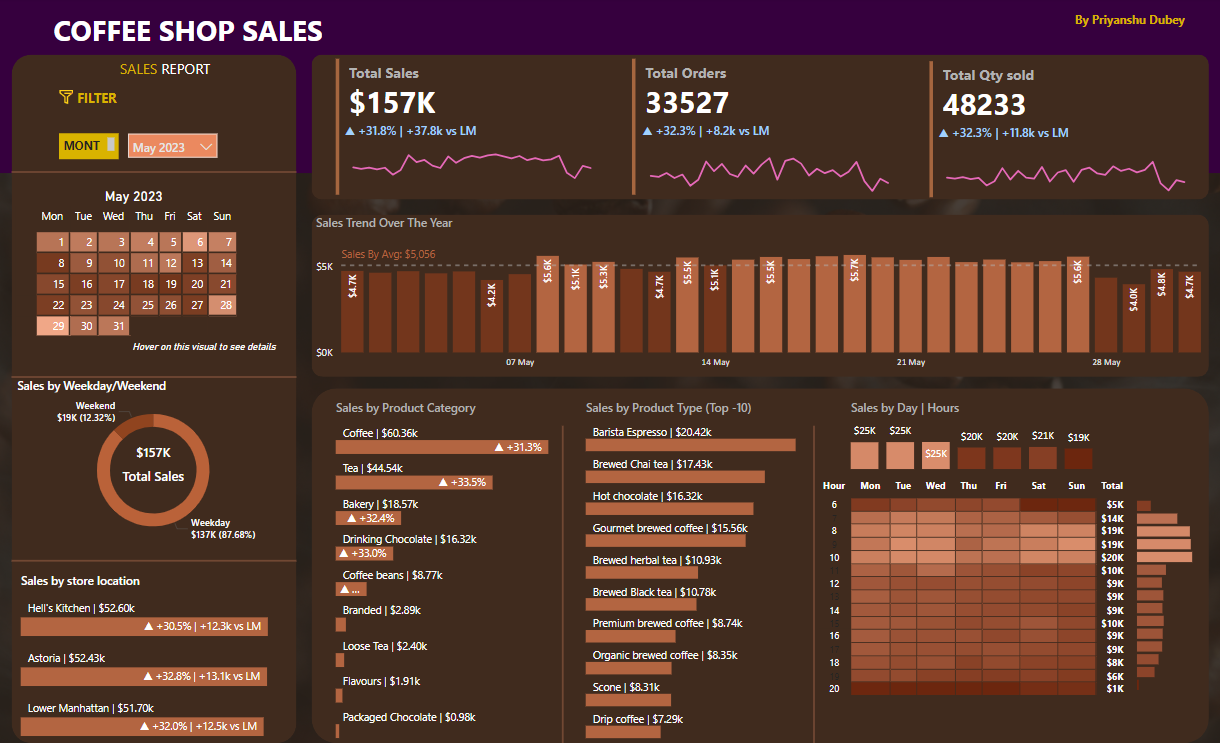

The dashboard page shown, as its layout file describes it:
{"tool":"powerbi","page":{"name":"Page 1","canvas":[1400,850],"ordinal":0},"visuals":[{"type":"shape","box":[0,1.4,1400.1,199.4],"z":0},{"type":"shape","box":[19.9,65.5,324.7,784.8],"z":1000},{"type":"shape","box":[361.8,65.5,1022.6,165.2],"z":2000},{"type":"textbox","box":[62.7,11.4,353.2,54.1],"z":3000},{"type":"slicer","fields":{"Values":["Date Table.Month Name"]},"box":[142.4,151,116.8,42.7],"z":4000},{"type":"group","id":"g1","title":"Group 1","box":[384.6,65.5,311.1,165.2],"z":5000},{"type":"cardVisual","fields":{"Data":["_Measures.Total Sale"]},"box":[384.6,65.5,300.5,165.2],"z":5000,"group":"g1"},{"type":"cardVisual","fields":{"Data":["_Measures.Total Order"]},"box":[722.1,65.5,300.5,165.2],"z":5000,"group":"g2"},{"type":"cardVisual","fields":{"Data":["_Measures.Total Qty sold"]},"box":[1060.5,68.1,300.5,165.2],"z":5000,"group":"g3"},{"type":"group","id":"g2","title":"Group 1","box":[722.1,65.5,311.9,165.2],"z":6000},{"type":"lineChart","fields":{"Category":["Date Table.Date Hierarchy.Date"],"Y":["_Measures.Total Sale"]},"box":[395.2,143.1,300.5,85.5],"z":6000,"group":"g1"},{"type":"lineChart","fields":{"Category":["Date Table.Date Hierarchy.Date"],"Y":["_Measures.Total Order"]},"box":[733.5,143.1,300.5,85.5],"z":6000,"group":"g2"},{"type":"lineChart","fields":{"Category":["Date Table.Date Hierarchy.Date"],"Y":["_Measures.Total Qty sold"]},"box":[1071.1,144.9,300.5,85.5],"z":6000,"group":"g3"},{"type":"group","id":"g3","title":"Group 1","box":[1060.5,68.1,311.2,165.2],"z":7000},{"type":"pivotTable","fields":{"Values":["Sum(Date Table.Day)"],"Columns":["Date Table.Day Name"],"Rows":["Date Table.Week Number"]},"box":[19.9,233.6,305,190],"z":8000},{"type":"card","fields":{"Values":["Min(Date Table.Month Name)"]},"box":[89.7,200.8,139.6,54.1],"z":9000},{"type":"card","fields":{"Values":["_Measures.Foot Note"]},"box":[142.4,377.4,193.7,45.6],"z":10000},{"type":"shape","box":[19.9,407.3,324.7,51.3],"z":11000},{"type":"shape","box":[19.9,173.8,324.7,51.3],"z":12000},{"type":"donutChart","fields":{"Category":["Date Table.Weekday/Weekend"],"Y":["_Measures.Total Sales"]},"box":[21.4,433,320.5,195.1],"z":13000},{"type":"card","fields":{"Values":["_Measures.Total Sales"]},"box":[138.2,499.9,86.9,61.2],"z":14000},{"type":"shape","box":[19.9,616.7,324.7,51.3],"z":15000},{"type":"clusteredBarChart","title":"Sales by store location","fields":{"Category":["Transactions.store_location"],"Y":["_Measures.Place holder","_Measures.Total Sales"]},"box":[25.6,655.2,320.5,195.1],"z":16000},{"type":"shape","box":[361.8,247.8,1022.6,185.2],"z":17000},{"type":"shape","box":[361.8,445.8,1022.6,404.5],"z":18000},{"type":"columnChart","title":"  Sales Trend Over The Year","fields":{"Category":["Transactions.transaction_date"],"Y":["_Measures.Total Sales"]},"box":[361.8,247.8,1022.6,185.2],"z":19000},{"type":"clusteredBarChart","title":"Sales by Product Category","fields":{"Y":["_Measures.Place holder","_Measures.Total Sales"],"Category":["Transactions.product_category"]},"box":[384.6,458.6,284.9,391.7],"z":20000},{"type":"shape","box":[611,488.5,74.1,361.8],"z":21000},{"type":"clusteredBarChart","title":"Sales by Product Type (Top -10)","fields":{"Y":["_Measures.Place holder","_Measures.Total Sales"],"Category":["Transactions.product_type"]},"box":[669.4,458.6,284.9,391.7],"z":22000},{"type":"shape","box":[897.3,488.5,74.1,361.8],"z":23000},{"type":"pivotTable","fields":{"Columns":["Date Table.Day Name"],"Values":["_Measures.Total Sales"],"Rows":["Transactions.Hour"]},"box":[934.3,544.1,371.7,306.2],"z":24000},{"type":"barChart","fields":{"Y":["_Measures.Total Sales"],"Category":["Transactions.Hour"]},"box":[1297.5,561.2,74.1,233.6],"z":25000},{"type":"columnChart","title":"Sales by Day | Hours","fields":{"Y":["_Measures.Total Sales"],"Category":["Date Table.Day Name"]},"box":[971.4,458.6,286.3,85.5],"z":26000},{"type":"textbox","box":[74.1,155.2,68.4,29.9],"z":27000},{"type":"textbox","box":[89.7,99.7,82.6,42.7],"z":28000},{"type":"textbox","box":[138.2,65.5,125.3,48.4],"z":29000},{"type":"image","box":[62.7,99.7,38.5,28.5],"z":30000},{"type":"textbox","box":[1226.3,11.4,145.3,28.5],"z":31000}]}

Visuals, with their boxes in screenshot pixels (x1, y1, x2, y2), scaled from the page's 1400x850 canvas onto the 1220x743 screenshot:
shape: bbox(0, 1, 1219, 176)
shape: bbox(17, 57, 300, 742)
shape: bbox(315, 57, 1206, 202)
textbox: bbox(55, 10, 362, 57)
slicer - Date Table.Month Name: bbox(124, 132, 226, 169)
"Group 1" group: bbox(335, 57, 606, 202)
cardVisual - _Measures.Total Sale: bbox(335, 57, 597, 202)
cardVisual - _Measures.Total Order: bbox(629, 57, 891, 202)
cardVisual - _Measures.Total Qty sold: bbox(924, 60, 1186, 204)
"Group 1" group: bbox(629, 57, 901, 202)
lineChart - Date Table.Date Hierarchy.Date x _Measures.Total Sale: bbox(344, 125, 606, 200)
lineChart - Date Table.Date Hierarchy.Date x _Measures.Total Order: bbox(639, 125, 901, 200)
lineChart - Date Table.Date Hierarchy.Date x _Measures.Total Qty sold: bbox(933, 127, 1195, 201)
"Group 1" group: bbox(924, 60, 1195, 204)
pivotTable - Sum(Date Table.Day) x Date Table.Day Name: bbox(17, 204, 283, 370)
card - Min(Date Table.Month Name): bbox(78, 176, 200, 223)
card - _Measures.Foot Note: bbox(124, 330, 293, 370)
shape: bbox(17, 356, 300, 401)
shape: bbox(17, 152, 300, 197)
donutChart - Date Table.Weekday/Weekend x _Measures.Total Sales: bbox(19, 378, 298, 549)
card - _Measures.Total Sales: bbox(120, 437, 196, 490)
shape: bbox(17, 539, 300, 584)
"Sales by store location" clusteredBarChart: bbox(22, 573, 302, 742)
shape: bbox(315, 217, 1206, 378)
shape: bbox(315, 390, 1206, 742)
"  Sales Trend Over The Year" columnChart: bbox(315, 217, 1206, 378)
"Sales by Product Category" clusteredBarChart: bbox(335, 401, 583, 742)
shape: bbox(532, 427, 597, 742)
"Sales by Product Type (Top -10)" clusteredBarChart: bbox(583, 401, 832, 742)
shape: bbox(782, 427, 847, 742)
pivotTable - Date Table.Day Name x _Measures.Total Sales: bbox(814, 476, 1138, 742)
barChart - _Measures.Total Sales x Transactions.Hour: bbox(1131, 491, 1195, 695)
"Sales by Day | Hours" columnChart: bbox(847, 401, 1096, 476)
textbox: bbox(65, 136, 124, 162)
textbox: bbox(78, 87, 150, 124)
textbox: bbox(120, 57, 230, 100)
image: bbox(55, 87, 88, 112)
textbox: bbox(1069, 10, 1195, 35)
